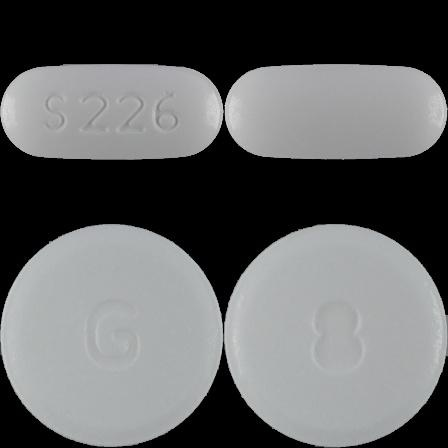68788-9768: (0, 0, 224, 224)
